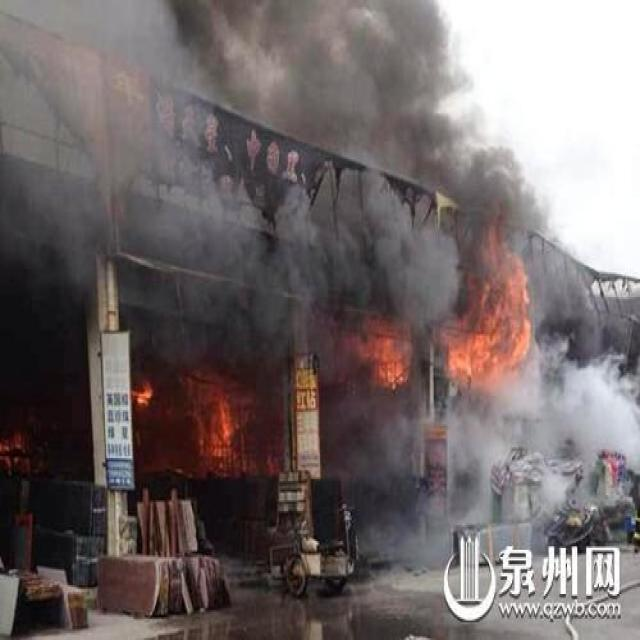Fire: (446, 226, 532, 387), (344, 320, 412, 389), (193, 382, 242, 456), (129, 384, 154, 405)
Smoke: (1, 1, 639, 572)
